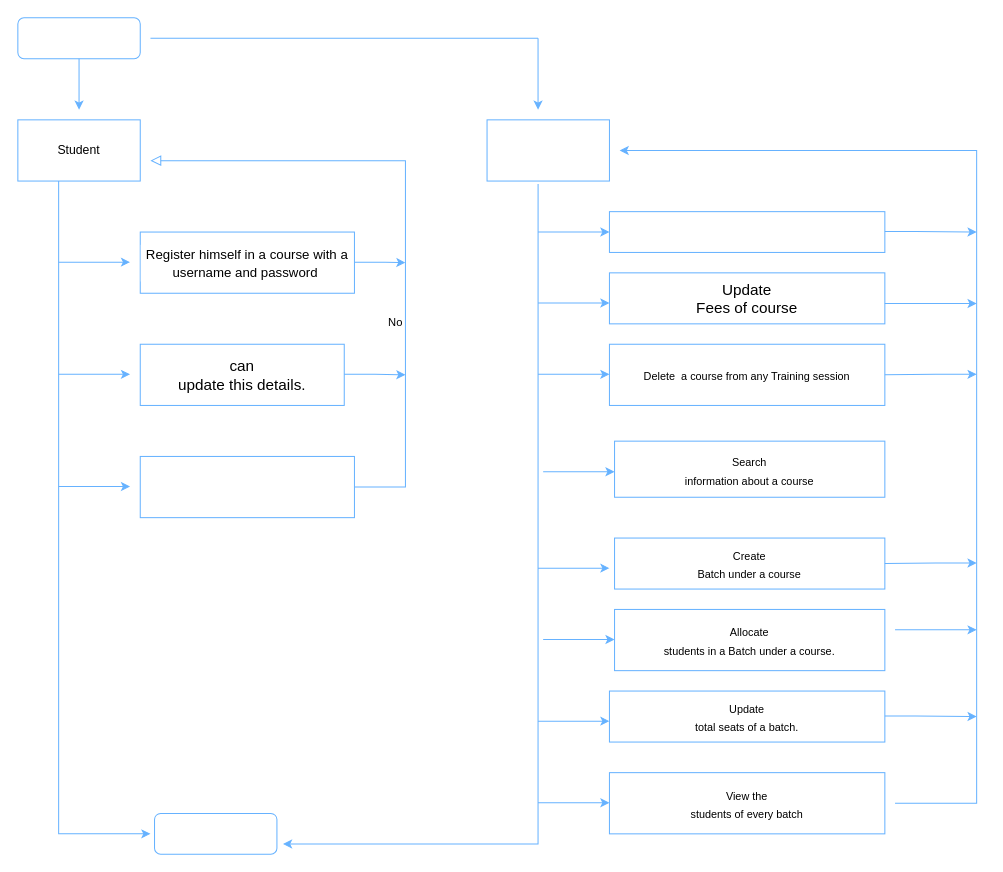
Some shapes in this 1003 by 872 pixel diagram are drawn without their labels. The shapes that lost their labels are listed below. From the top down, each one's centre as x and y in pixels, then its label:
pixel 78 38: Start
pixel 547 150: Admin
pixel 746 231: Add a new Courses
pixel 246 486: can see all the available course list and their seat availability.
pixel 215 833: Stop
